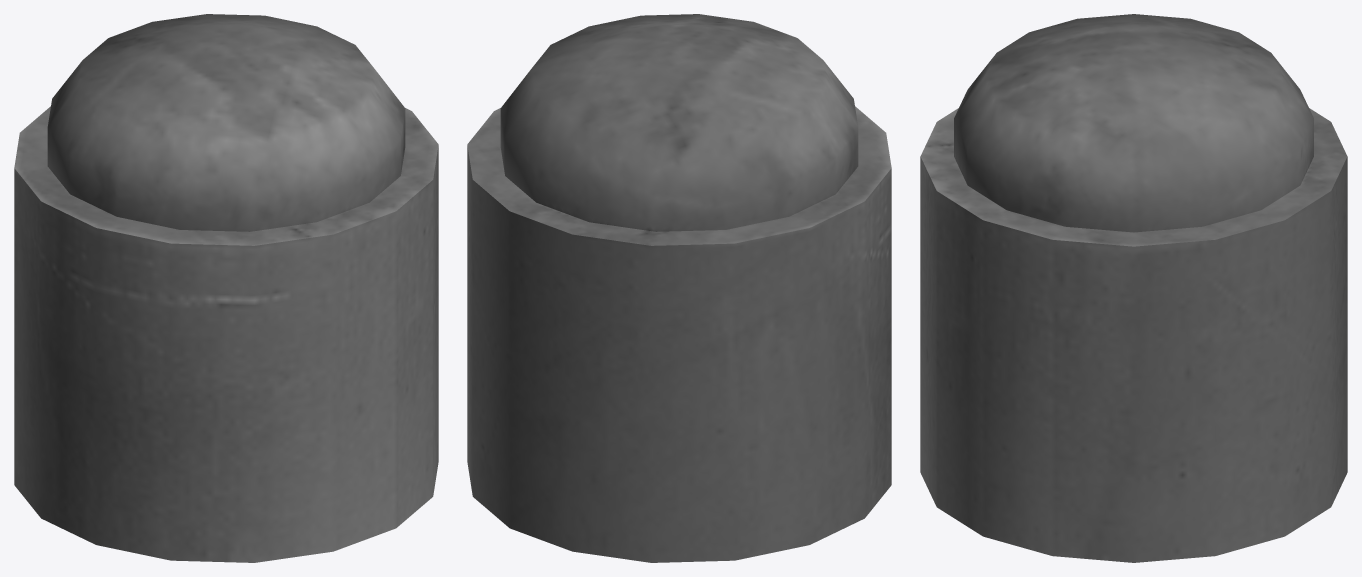
Rendered from ME_Tiny_tower.fbx.
3 views of the same model, side by side, from view 1: azimuth 30°, elevation 25°; view 2: azimuth 150°, elevation 25°; view 3: azimuth 270°, elevation 25° (orthographic).
Visible parts, largest first — view 1: ME_Tiny_tower; view 2: ME_Tiny_tower; view 3: ME_Tiny_tower.
Part boxes in pixels (bbox=[...]): ME_Tiny_tower: bbox=[14, 14, 438, 562]; ME_Tiny_tower: bbox=[467, 14, 891, 562]; ME_Tiny_tower: bbox=[920, 14, 1347, 562].
Bounding box in the file's own units: 35.37 × 38.75 × 35.37.
